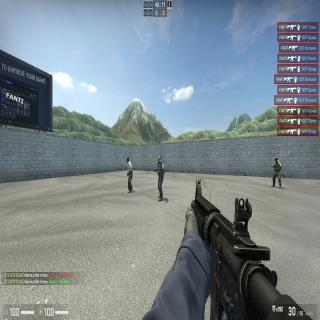CT-Body: (156, 154, 164, 202), (272, 156, 280, 187)
CT-Head: (274, 157, 278, 163), (158, 155, 161, 162)
T-Body: (126, 157, 133, 194)
T-Head: (127, 157, 129, 163)
